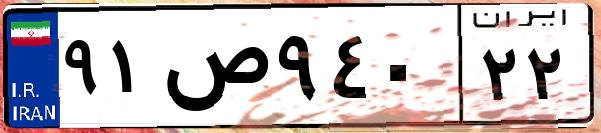0: (385, 28, 445, 110)
1: (110, 28, 158, 98)
2: (475, 38, 525, 113), (525, 38, 570, 115)
4: (330, 28, 385, 110)
9: (270, 28, 330, 110), (57, 26, 110, 100)
ص: (158, 20, 270, 120)
